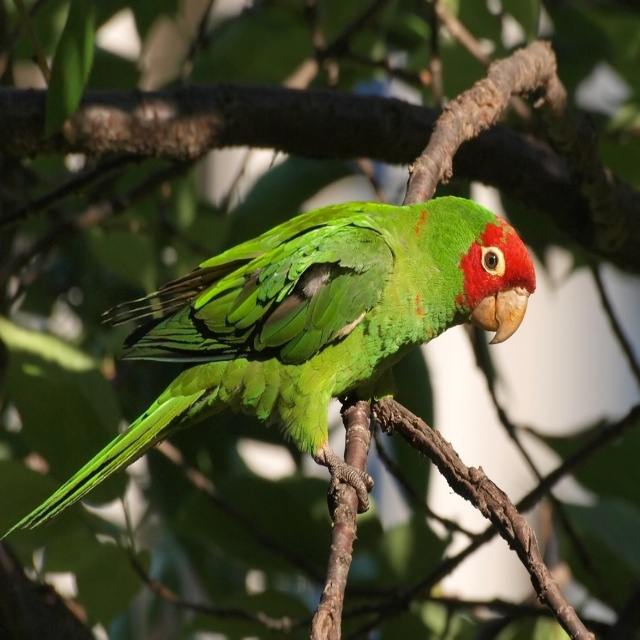Parrot: (0, 196, 535, 544)
